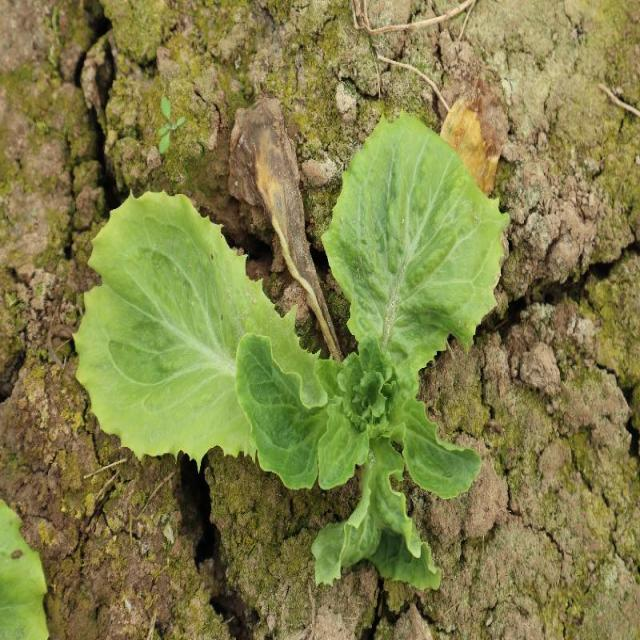crop: (74, 111, 506, 587)
